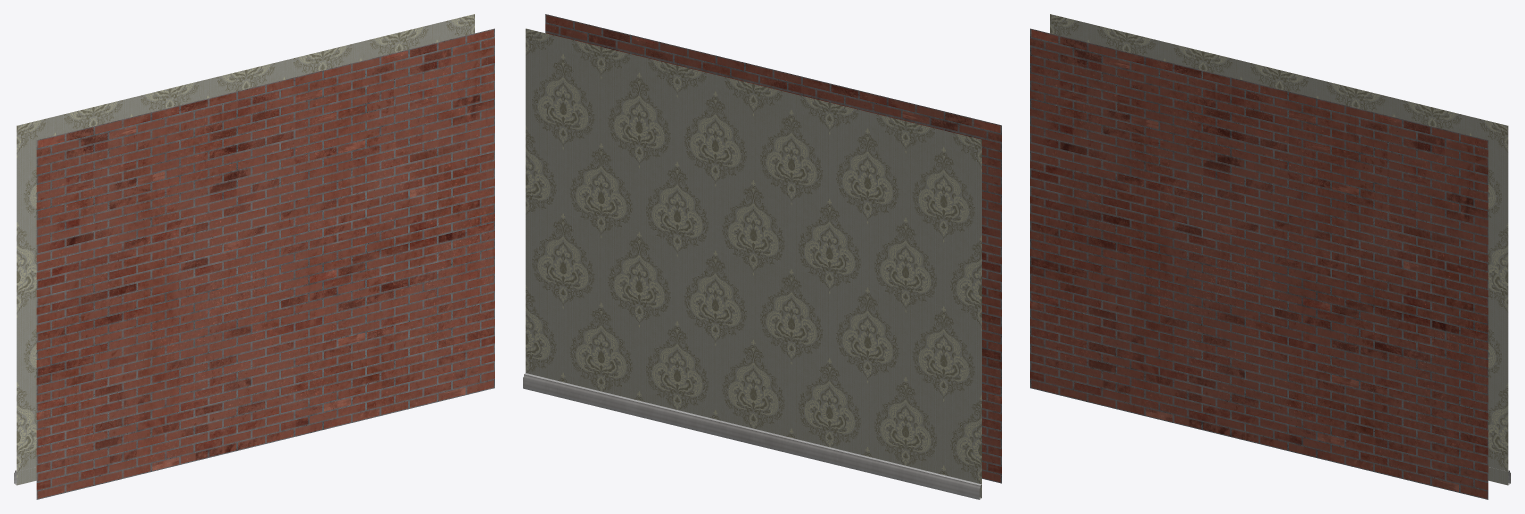
File: House_07_Wall_01.fbx
The picture shows the model from 3 angles, left to right: view 1: azimuth 30°, elevation 25°; view 2: azimuth 150°, elevation 25°; view 3: azimuth 330°, elevation 25°; orthographic projection.
Parts seen in each view (by area): view 1: House_07_Wall_01; view 2: House_07_Wall_01; view 3: House_07_Wall_01.
Part boxes in pixels (<box>): House_07_Wall_01: <box>14,14,494,499</box>; House_07_Wall_01: <box>523,14,1001,499</box>; House_07_Wall_01: <box>1030,14,1510,499</box>.
Size of the model in its own units: 400 by 300 by 33.93.
